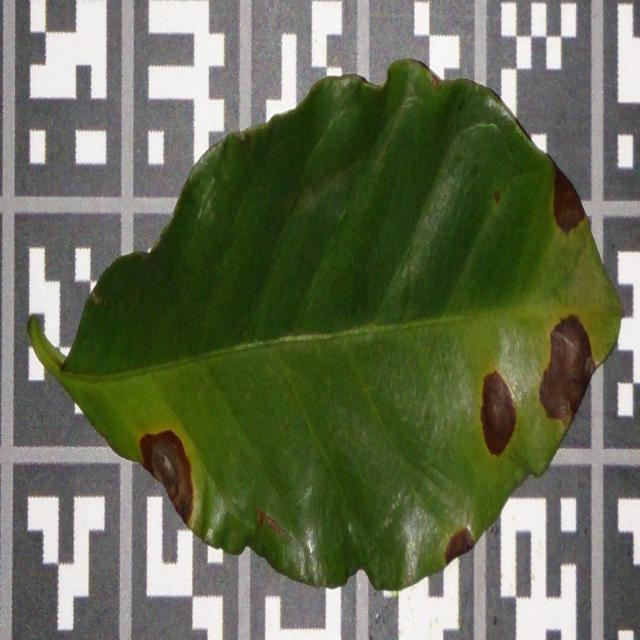Enfermedad-Mancha-de-hierro: (52, 60, 623, 596)
